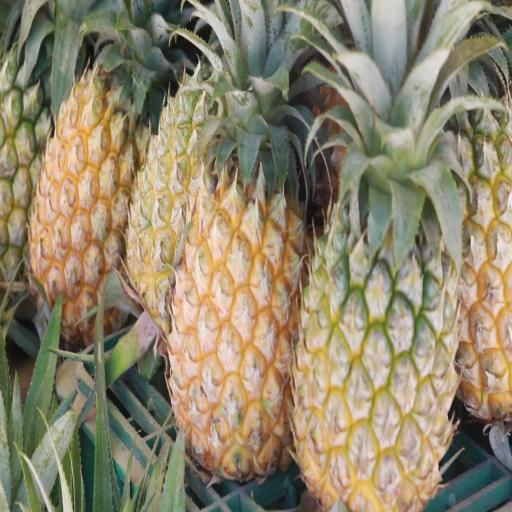------------------------------: (286, 56, 460, 511)
Pineapple - v8 v1: (164, 114, 315, 492), (25, 13, 152, 346), (118, 8, 232, 326)
